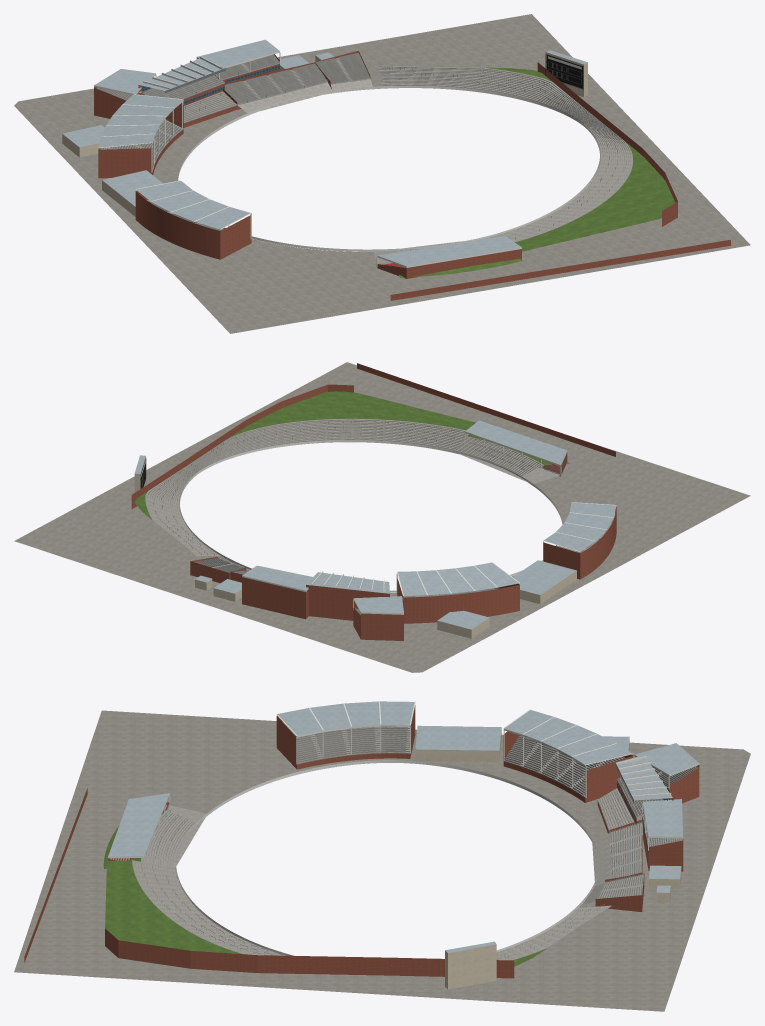
3 renders of one model, top to bottom at view 1: azimuth 30°, elevation 25°; view 2: azimuth 150°, elevation 25°; view 3: azimuth 270°, elevation 25°, orthographic. The views are drawn at different scales.
Visible parts, largest first — view 1: concourse, brick, roof, steps, tread, bank, white, bench_grey, steel, render, sbface; view 2: concourse, brick, roof, tread, steps, bank, white, render, steel, bench_grey; view 3: concourse, roof, tread, brick, steps, bank, white, bench_grey, render, steel.
Part boxes in pixels (bbox=[...]): concourse: bbox=[14, 14, 750, 333]; brick: bbox=[94, 50, 730, 300]; roof: bbox=[62, 39, 587, 266]; steps: bbox=[97, 53, 629, 267]; tread: bbox=[98, 58, 633, 252]; bank: bbox=[399, 67, 675, 277]; white: bbox=[94, 51, 599, 267]; bench_grey: bbox=[96, 52, 369, 230]; steel: bbox=[153, 61, 626, 264]; render: bbox=[62, 52, 587, 216]; sbface: bbox=[545, 54, 583, 89]; concourse: bbox=[14, 362, 750, 672]; brick: bbox=[131, 363, 616, 640]; roof: bbox=[134, 420, 616, 629]; tread: bbox=[145, 418, 614, 591]; steps: bbox=[148, 419, 601, 613]; bank: bbox=[134, 391, 569, 519]; white: bbox=[180, 431, 616, 614]; render: bbox=[134, 457, 576, 638]; steel: bbox=[153, 421, 559, 608]; bench_grey: bbox=[194, 512, 615, 614]; concourse: bbox=[14, 710, 750, 1011]; roof: bbox=[108, 701, 698, 952]; tread: bbox=[110, 725, 696, 966]; brick: bbox=[24, 705, 699, 978]; steps: bbox=[110, 722, 697, 904]; bank: bbox=[103, 810, 546, 966]; white: bbox=[108, 701, 699, 955]; bench_grey: bbox=[282, 721, 698, 898]; render: bbox=[415, 729, 681, 989]; steel: bbox=[141, 750, 668, 959].
Bounding box in the file's own units: 230 × 14.2 × 238.
Materials: 15 (15 with a texture image).
